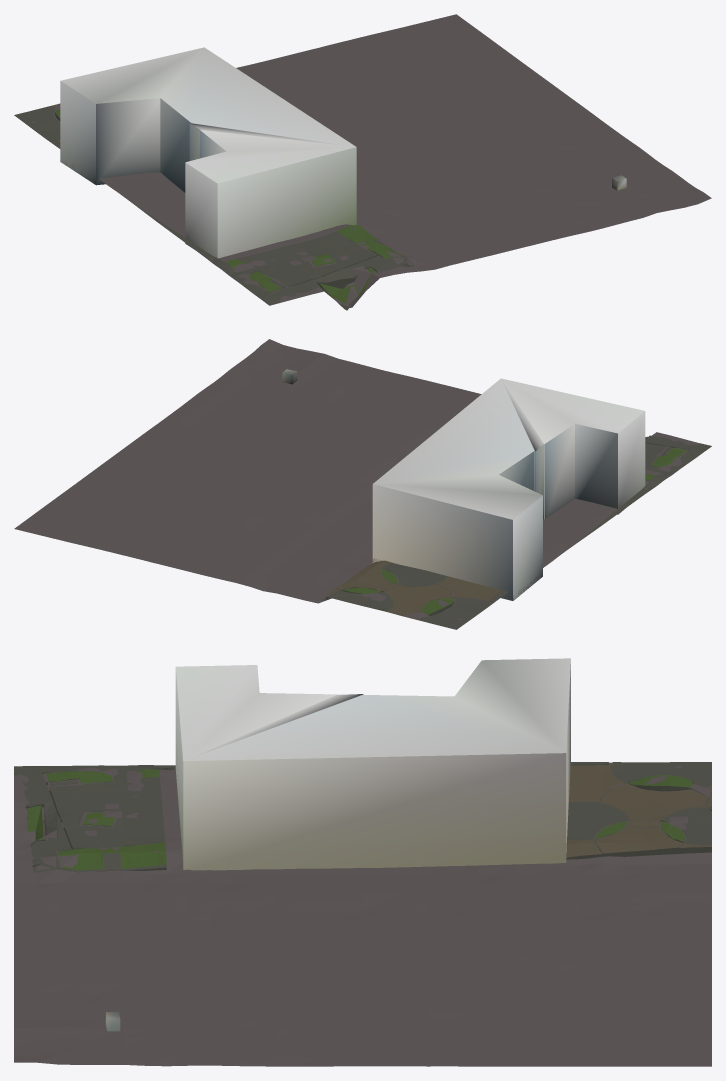
The picture shows the model from 3 angles, top to bottom: view 1: azimuth 30°, elevation 25°; view 2: azimuth 150°, elevation 25°; view 3: azimuth 270°, elevation 25°; orthographic projection. The views are drawn at different scales.
Parts seen in each view (by area): view 1: c_m06_m06; view 2: c_m06_m06; view 3: c_m06_m06.
Boxes of the visible parts, x1=… form: c_m06_m06: x1=14, y1=14, x2=711, y2=310; c_m06_m06: x1=14, y1=339, x2=711, y2=629; c_m06_m06: x1=14, y1=658, x2=711, y2=1066.
Size of the model in its own units: 129 by 29.49 by 128.
